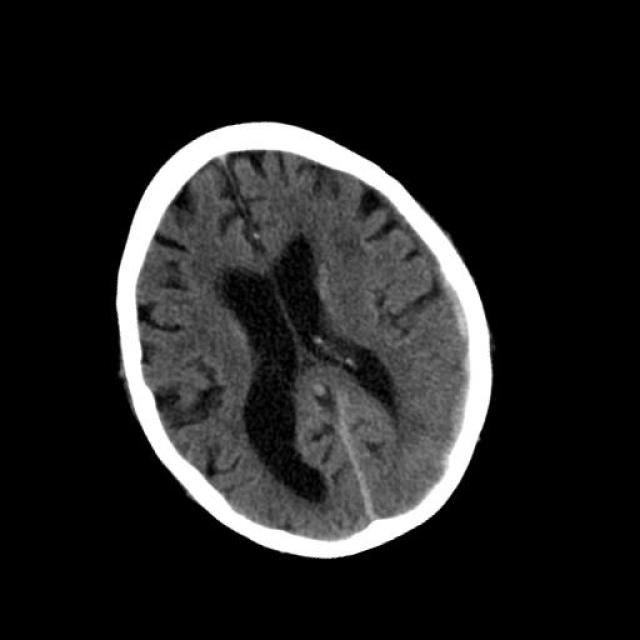Subdural: (368, 230, 544, 479), (308, 388, 408, 536)
